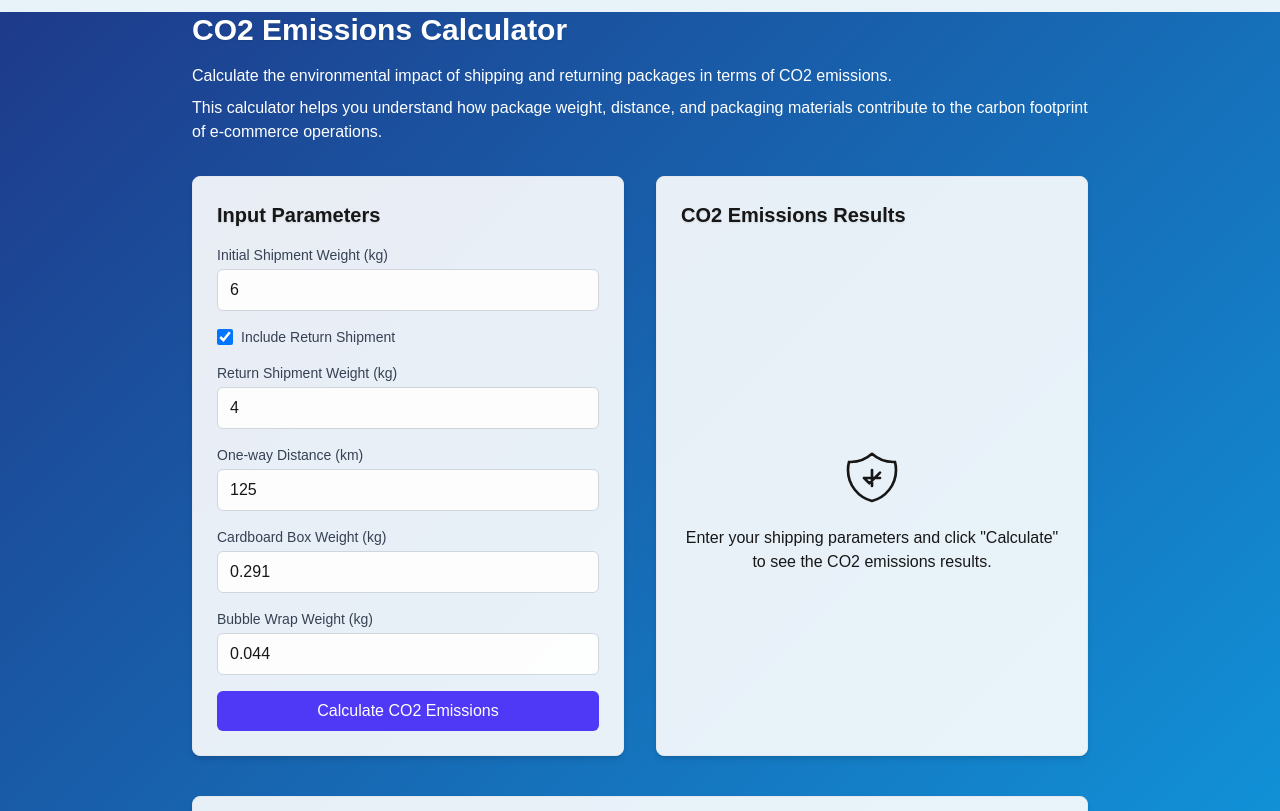
CO2 Calculator › toggles return shipment input visibility
expect the field labelled "Return Shipment Weight (kg)" is shown: met, box [217,387,599,429]
// Uncheck the checkbox
Step 1. Click the checkbox labelled "Include Return Shipment" → (225,337), box [217,329,233,345]
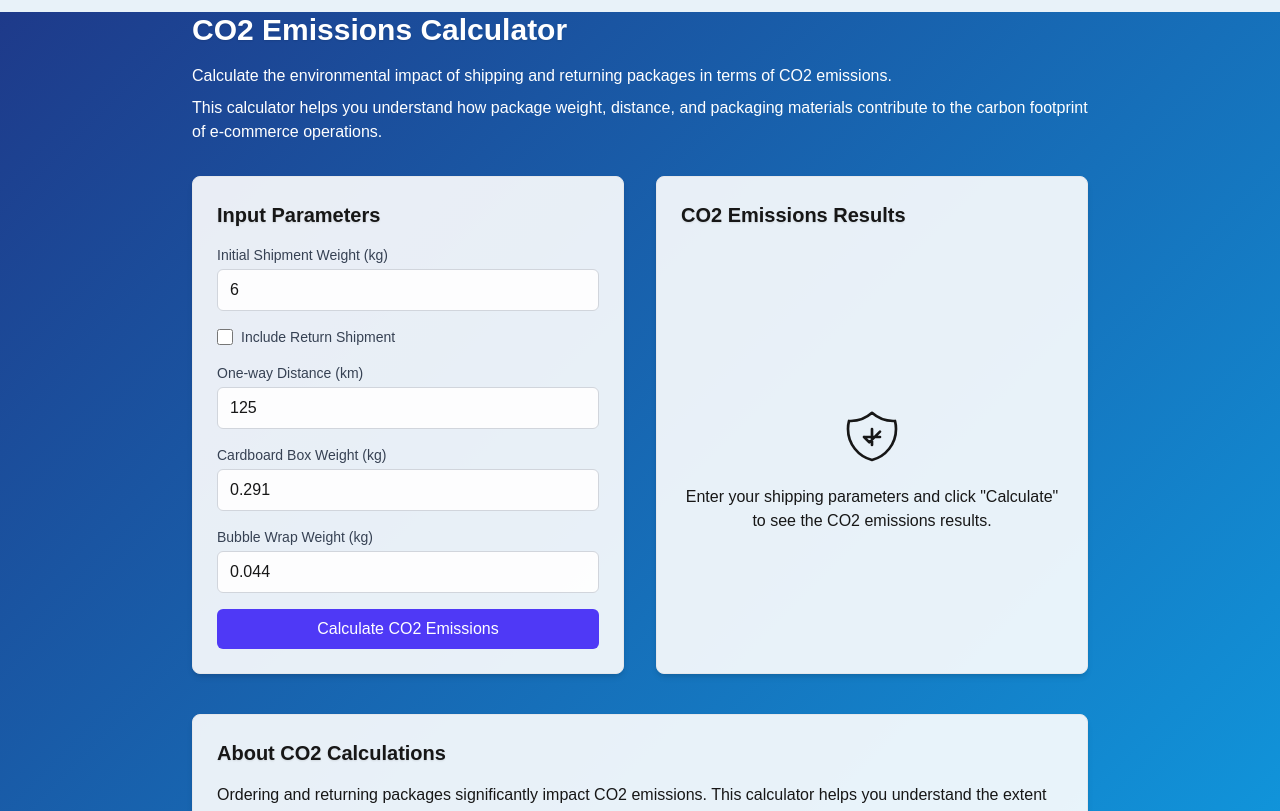
expect the label labelled "Return Shipment Weight" is gone: met
// Check the checkbox again
Step 2. Click the checkbox labelled "Include Return Shipment" → (225,337), box [217,329,233,345]
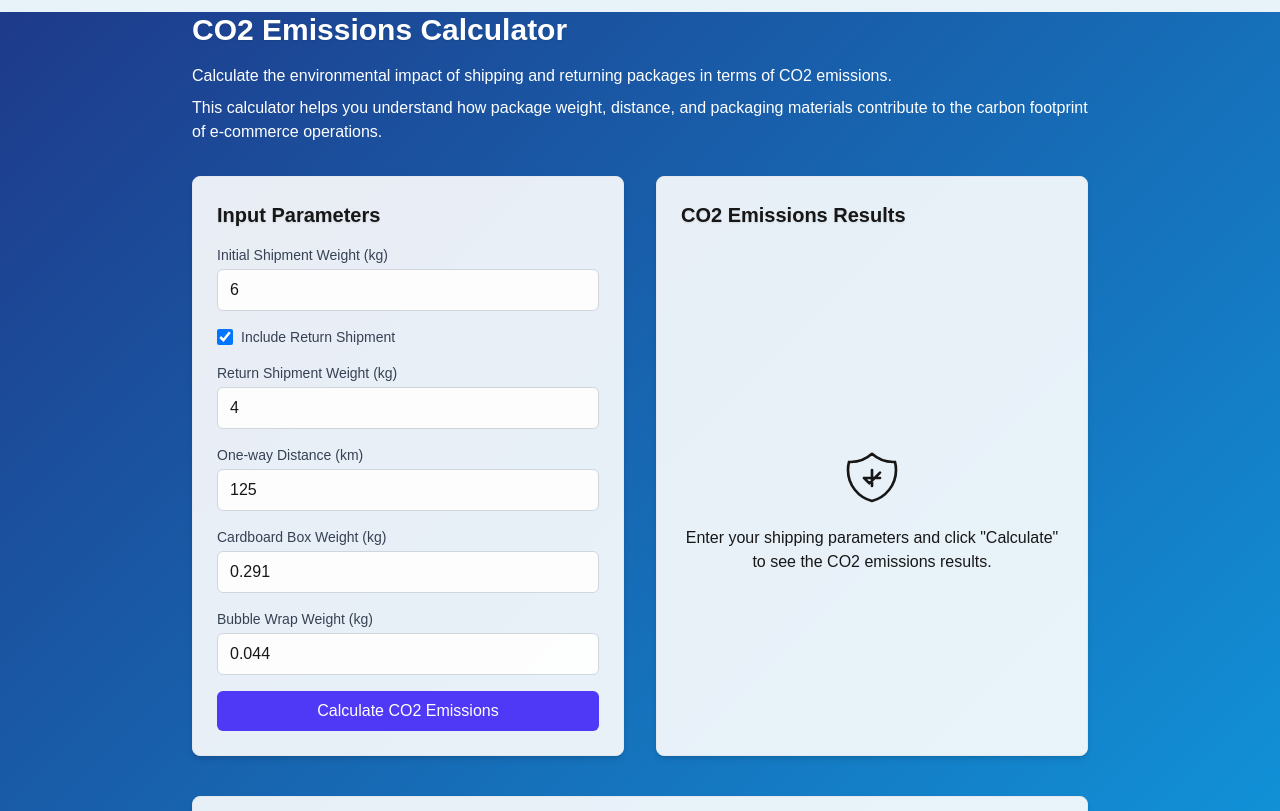
expect the field labelled "Return Shipment Weight (kg)" is shown: met, box [217,387,599,429]
